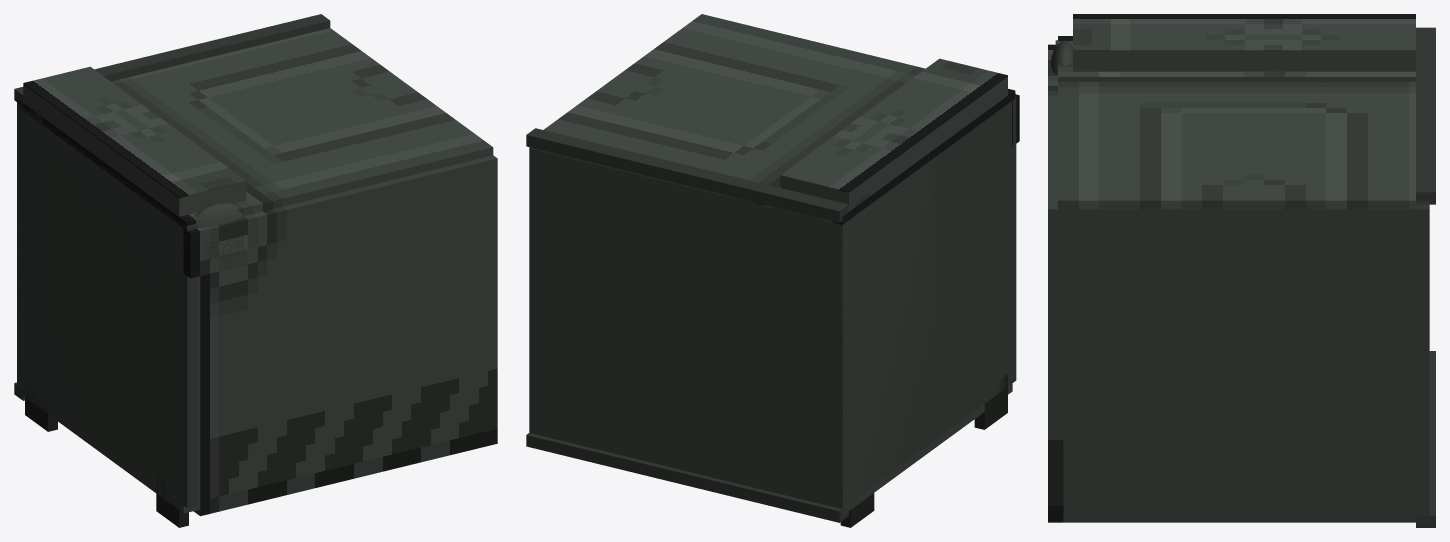
Rendered from CMU3DFreightRMCContainerShortGreenLeft.glb.
3 views of the same model, side by side, from view 1: azimuth 30°, elevation 25°; view 2: azimuth 150°, elevation 25°; view 3: azimuth 270°, elevation 25° (orthographic). The views are drawn at different scales.
Visible parts, largest first — view 1: painted front panel, closed cargo shell, source-painted lid, source-painted locking strap, outer end wall, outer lid strap, rear horizontal frame, corner lifting foot (×2), corner frame upright, rounded strap end; view 2: closed cargo shell, outer end wall, source-painted lid, rear horizontal frame (×2), source-painted locking strap, outer lid strap, corner lifting foot; view 3: closed cargo shell, source-painted lid, source-painted locking strap, outer lid strap, painted front panel, rear horizontal frame (×2), rounded strap end.
Part boxes in pixels (x1,y1,x2,y2): painted front panel: (183, 155, 497, 516); closed cargo shell: (17, 108, 200, 513); source-painted lid: (17, 28, 493, 229); source-painted locking strap: (23, 66, 246, 197); outer end wall: (17, 103, 196, 507); outer lid strap: (23, 84, 246, 216); rear horizontal frame: (14, 14, 330, 106); corner lifting foot (×2): (25, 379, 188, 527); corner frame upright: (30, 104, 42, 385); rounded strap end: (194, 202, 243, 227); closed cargo shell: (529, 147, 1012, 515); outer end wall: (832, 93, 1016, 507); source-painted lid: (529, 14, 1015, 224); rear horizontal frame (×2): (526, 128, 848, 522); source-painted locking strap: (780, 58, 1007, 192); outer lid strap: (780, 76, 1007, 211); corner lifting foot: (974, 374, 1007, 429); closed cargo shell: (1063, 209, 1429, 522); source-painted lid: (1058, 36, 1429, 209); source-painted locking strap: (1073, 14, 1415, 50); outer lid strap: (1073, 51, 1415, 71); painted front panel: (1048, 44, 1064, 522); rear horizontal frame (×2): (1416, 27, 1435, 527); rounded strap end: (1050, 40, 1072, 75).
Bounding box in the file's own units: 1 × 1.03 × 0.995.
10 materials, 3 textured.
